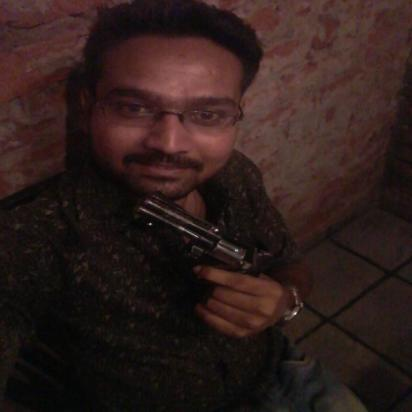Gun: (132, 188, 281, 341)
